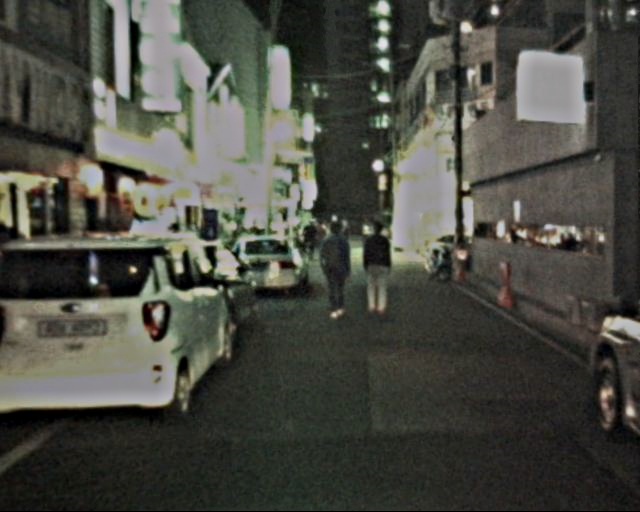person: (317, 225, 355, 317), (360, 222, 397, 313)
